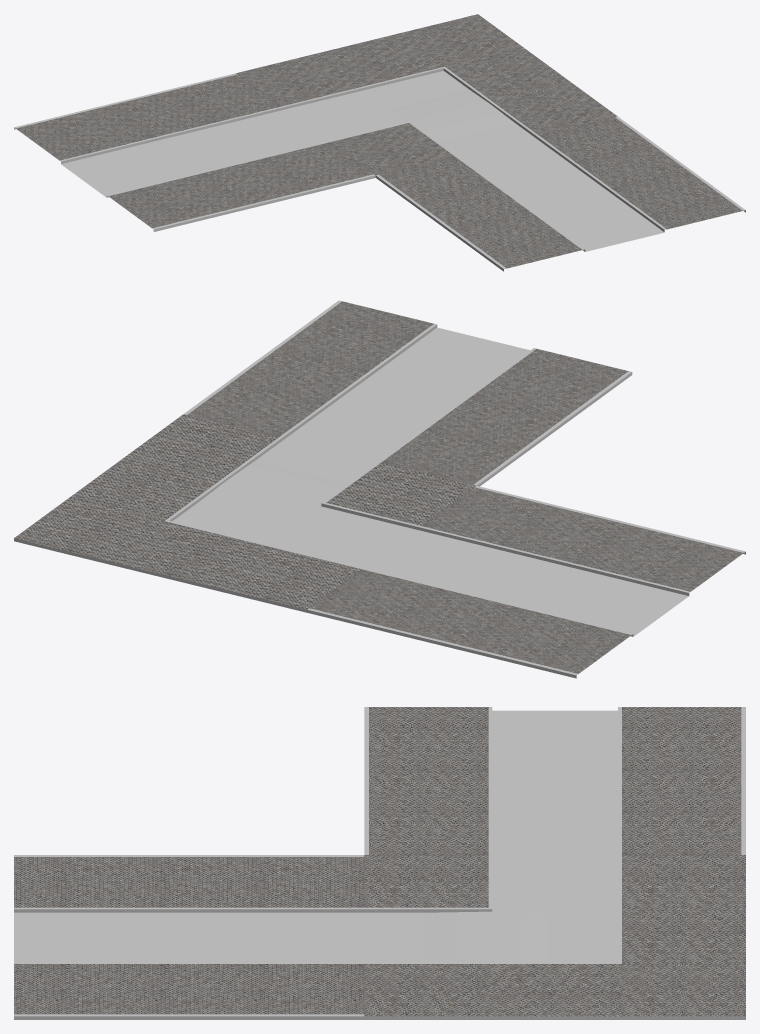
The model's file is ec_road_curve.fbx.
3 renders of one model, top to bottom at view 1: azimuth 30°, elevation 25°; view 2: azimuth 150°, elevation 25°; view 3: azimuth 270°, elevation 25°, orthographic. The views are drawn at different scales.
Visible parts, largest first — view 1: Mesh; view 2: Mesh; view 3: Mesh.
Part boxes in pixels (box(x1,y1,x2,y2)): Mesh: box(14, 14, 745, 271); Mesh: box(14, 300, 745, 678); Mesh: box(14, 707, 745, 1019).
Bounding box in the file's own units: 4719 × 25 × 4719.
